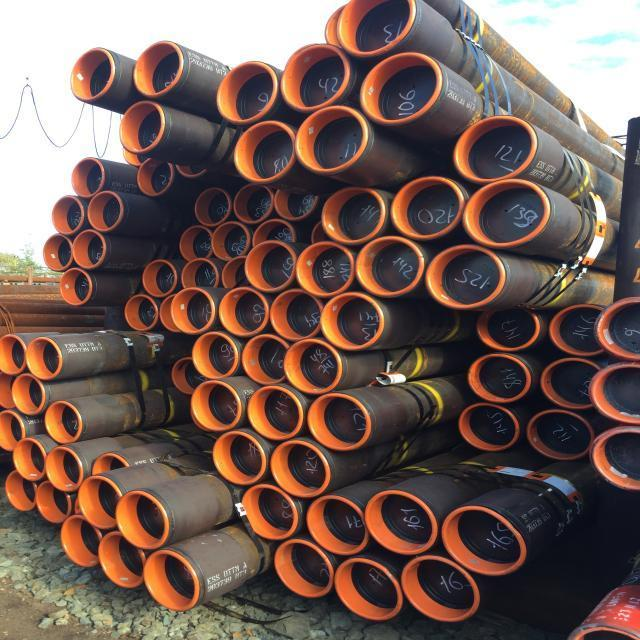pipe: (462, 179, 551, 247), (452, 115, 538, 184), (441, 506, 527, 575), (360, 52, 442, 124), (425, 243, 506, 309), (401, 555, 480, 622), (295, 106, 369, 174), (280, 43, 351, 112), (390, 175, 465, 240), (364, 490, 436, 555), (333, 558, 403, 621), (336, 1, 415, 56), (355, 236, 425, 297), (235, 120, 297, 183), (321, 185, 386, 245), (217, 62, 278, 124), (306, 495, 369, 555), (319, 293, 384, 351), (307, 393, 371, 451), (274, 539, 335, 598), (526, 409, 595, 461), (270, 440, 330, 498), (282, 338, 343, 395), (143, 550, 198, 611), (296, 241, 355, 297), (241, 484, 298, 540), (115, 490, 168, 550), (588, 362, 639, 424), (540, 357, 602, 408), (590, 427, 639, 491), (247, 385, 304, 440), (467, 353, 530, 402), (212, 430, 266, 485), (549, 304, 606, 356), (594, 296, 639, 361), (132, 41, 184, 97), (459, 403, 519, 451), (270, 289, 323, 341), (244, 240, 297, 292), (476, 308, 540, 351), (190, 380, 242, 430), (99, 532, 145, 588), (241, 334, 290, 385), (119, 100, 165, 154), (219, 287, 268, 337), (78, 475, 122, 530), (71, 48, 115, 101), (60, 514, 102, 567), (169, 287, 215, 334), (192, 332, 238, 378), (45, 447, 83, 492), (44, 400, 81, 444), (234, 184, 273, 225), (26, 336, 62, 380), (211, 221, 250, 261), (36, 481, 71, 524), (87, 191, 123, 232), (195, 187, 231, 226), (274, 190, 319, 221), (71, 157, 105, 198), (13, 438, 46, 480), (137, 158, 173, 196), (5, 470, 37, 512), (172, 357, 208, 394), (142, 259, 177, 297), (73, 229, 106, 269), (12, 374, 45, 414), (52, 195, 84, 235), (124, 295, 158, 331), (179, 225, 213, 261), (60, 268, 92, 306), (253, 219, 296, 247), (181, 258, 219, 289), (43, 233, 72, 271), (0, 334, 26, 374), (0, 410, 25, 451), (221, 255, 249, 288)
